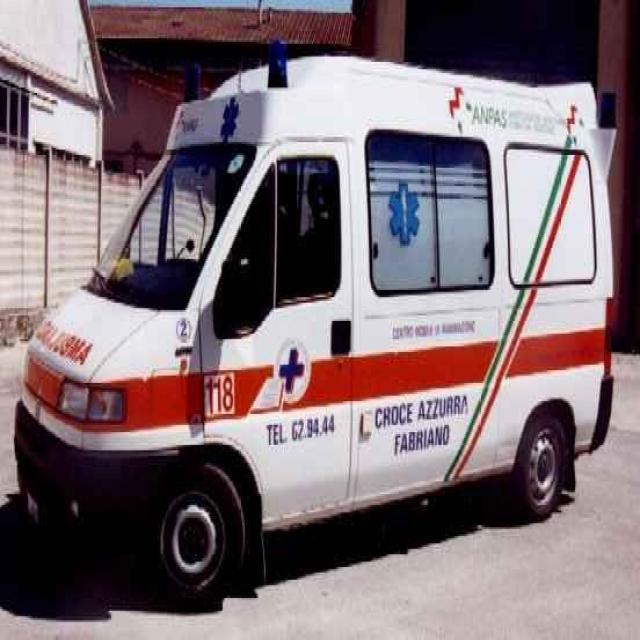emergency-vehicle: (18, 57, 614, 598)
